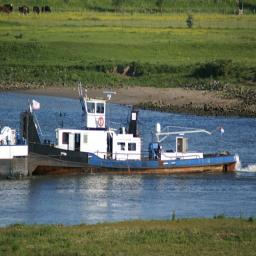tugboat: (18, 80, 241, 186)
